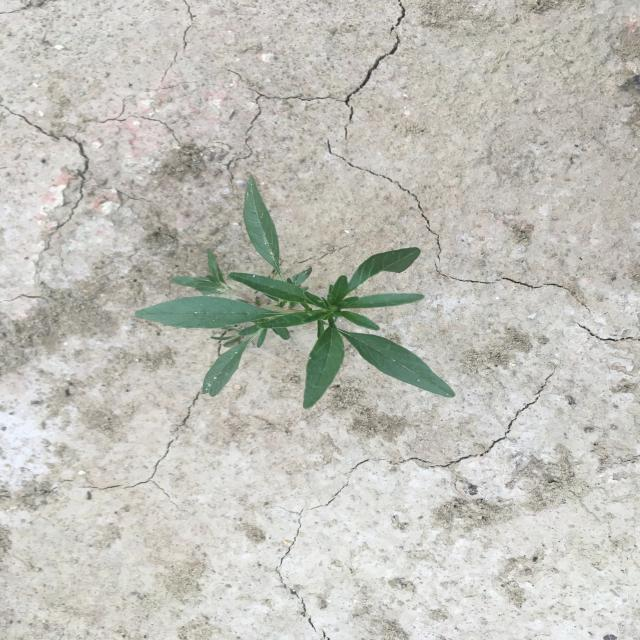Waterhemp: (131, 170, 456, 412)
